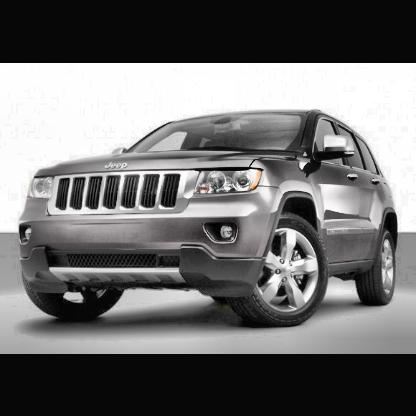Jeep Grand Cherokee SUV 2012: (19, 111, 400, 328)
